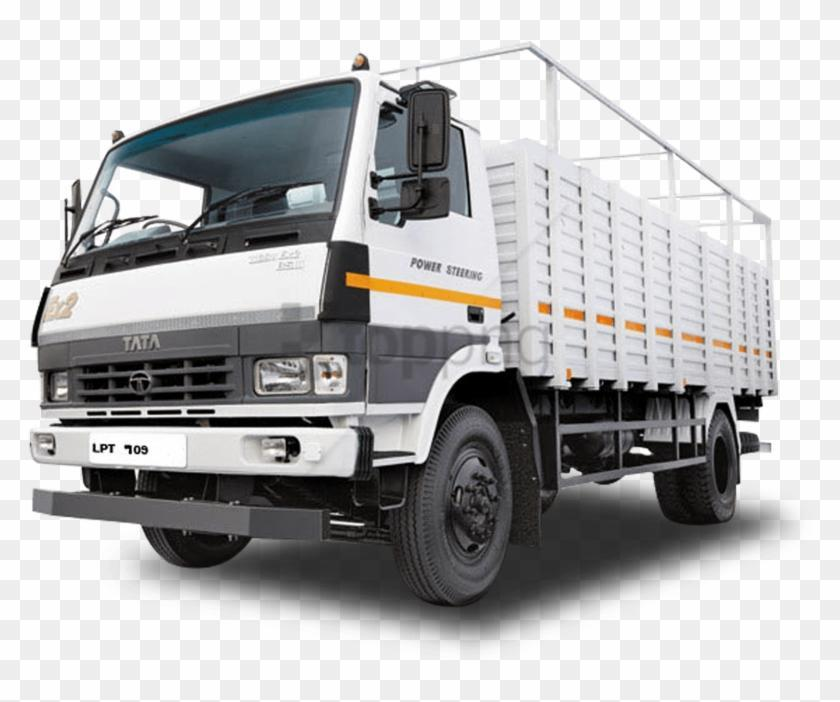truck: (42, 62, 765, 553)
